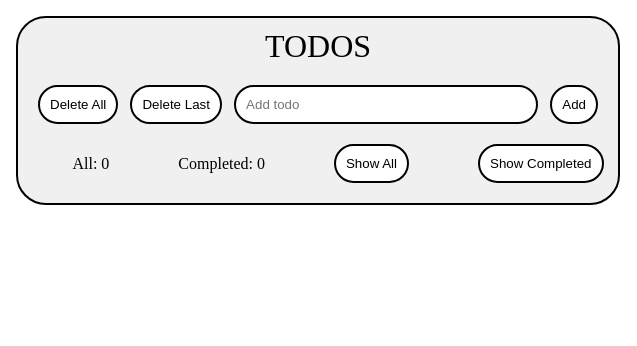
Scenario: test todo › todo is adding
In the field with test id "cypress-input": [386, 105] box left=234, top=85, right=538, bottom=124, type "cleaning"
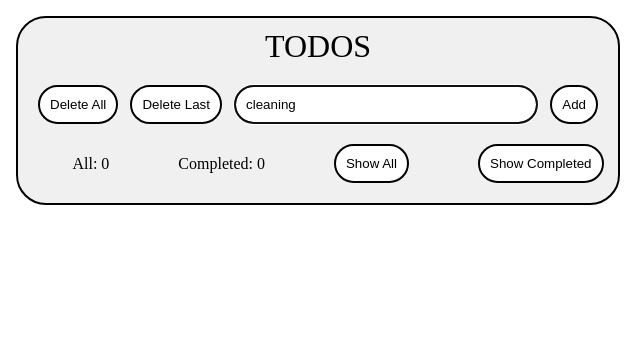
Click the button with test id "cypress-addBtn": [574, 105] box left=550, top=85, right=598, bottom=124
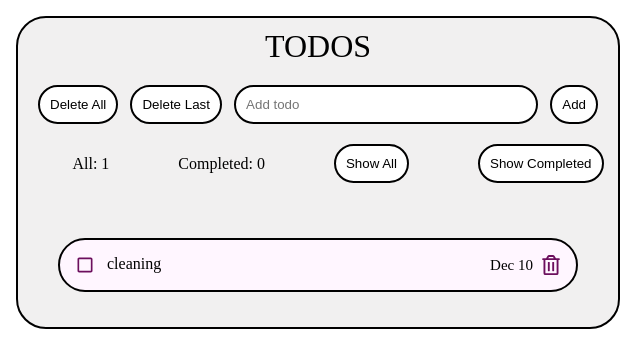
Result: the element showing "cleaning" is shown at left=75, top=255, right=161, bottom=275
